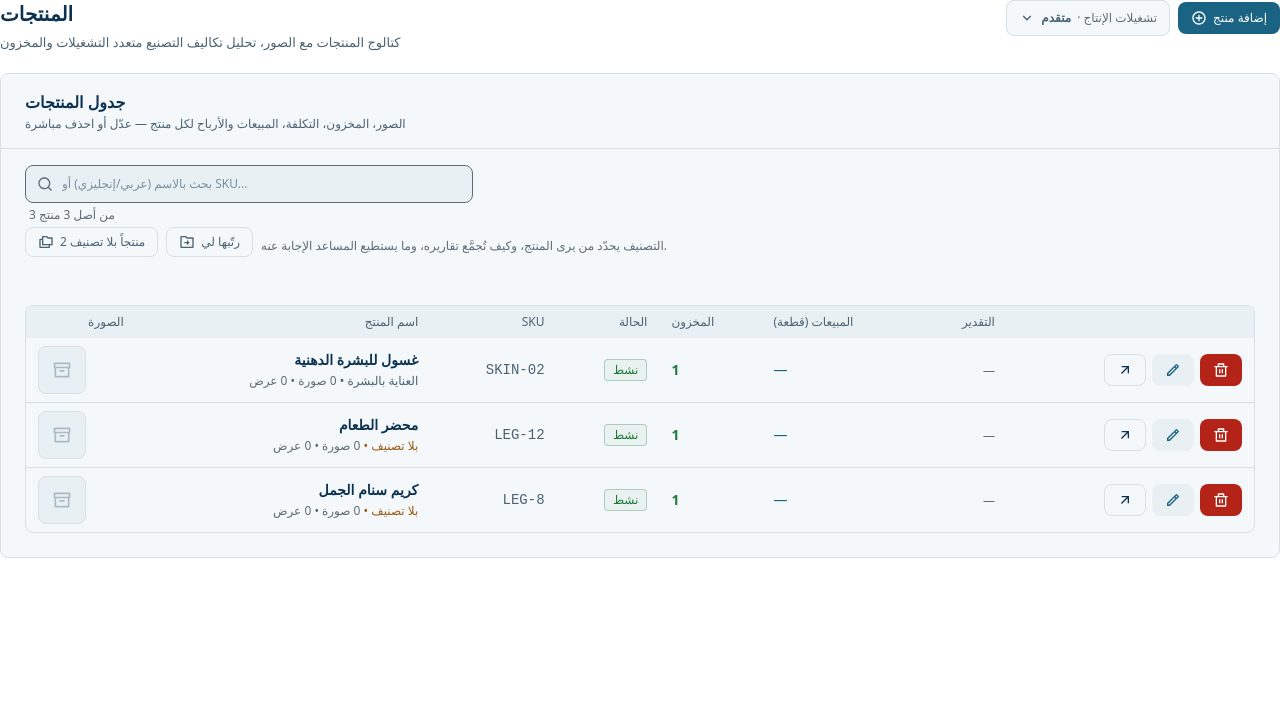
Test: the button › — lists ALL of them whatever the search box has narrowed the table to
Expected: the text "محضر الطعام" is shown, [339,415,418,434]
Type "غسول" into the field with placeholder "بحث بالاسم (عربي/إنجليزي) أو SKU..." at point(249, 184), box [25,165,473,203]
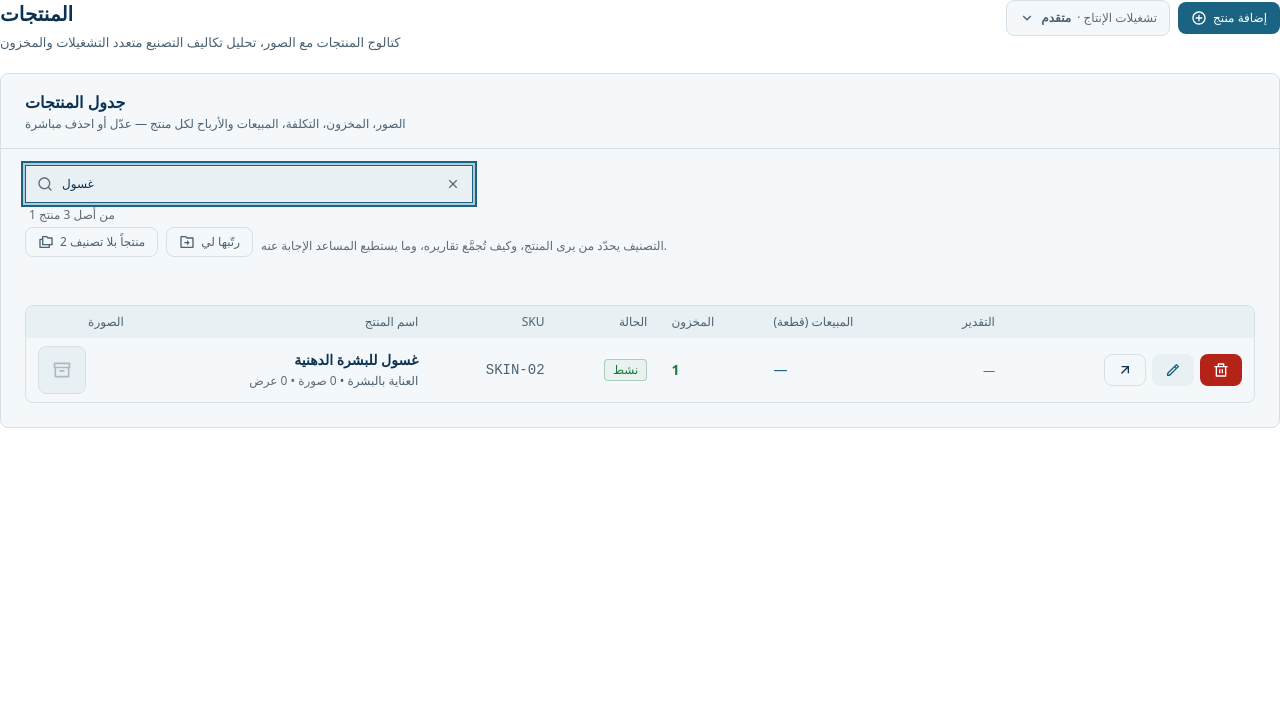
Click the button "رتّبها لي" at point(210, 242), box [166,227,253,257]
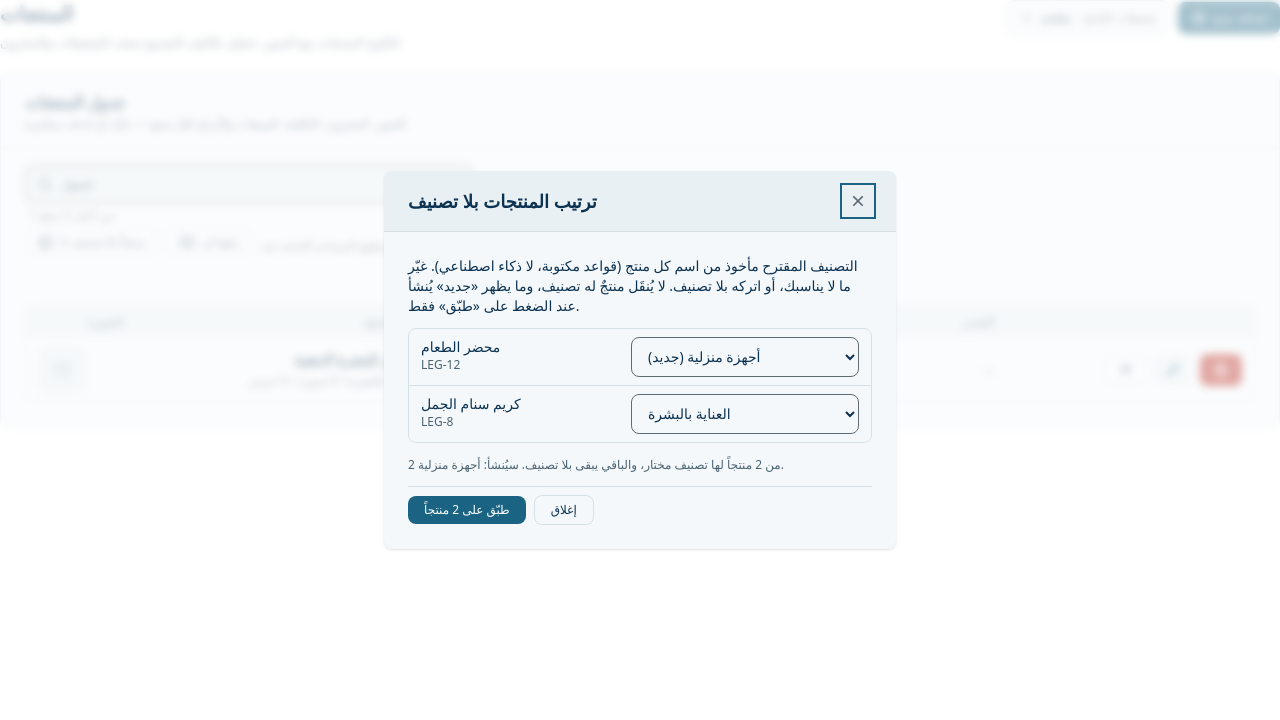
Expected: the dropdown named "تصنيف محضر الطعام" is shown, [631,337,859,377]
Expected: the dropdown named "تصنيف كريم سنام الجمل" is shown, [631,394,859,434]
